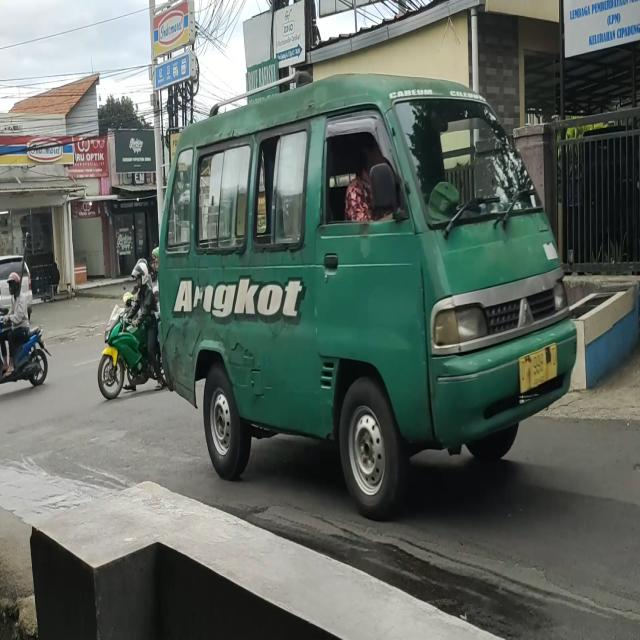helmet: (132, 262, 150, 288), (10, 274, 22, 298)
